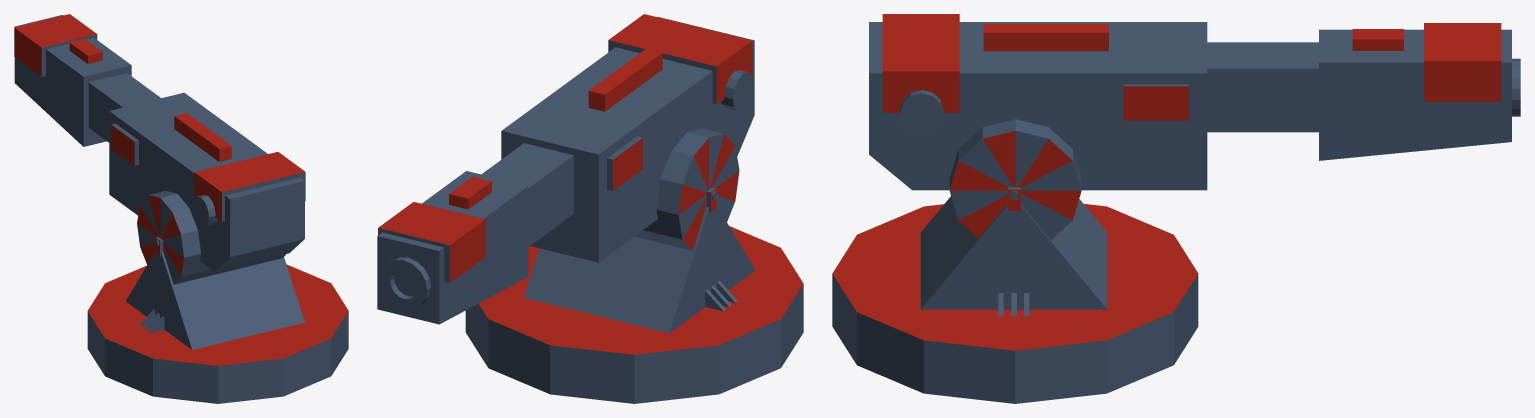
Rendered from BasicGun.fbx.
3 views of the same model, side by side, from view 1: azimuth 30°, elevation 25°; view 2: azimuth 150°, elevation 25°; view 3: azimuth 270°, elevation 25° (orthographic). The views are drawn at different scales.
Visible parts, largest first — view 1: Turret_3; view 2: Turret_3; view 3: Turret_3.
Boxes of the visible parts, left/top/right/bottom form: Turret_3: left=14, top=14, right=348, bottom=403; Turret_3: left=377, top=14, right=803, bottom=403; Turret_3: left=832, top=14, right=1520, bottom=403.
Size of the model in its own units: 267 by 238 by 503.
